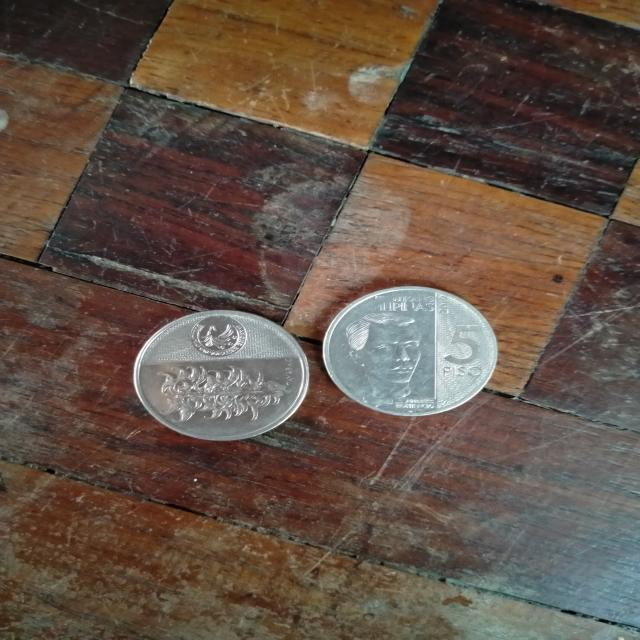5_New_Back: (153, 361, 292, 427)
5_New_Front: (439, 322, 496, 384)
